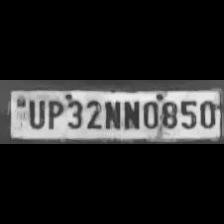0: (196, 98, 218, 128), (140, 98, 158, 128)
2: (84, 97, 102, 130)
3: (64, 97, 82, 129)
5: (178, 97, 198, 129)
8: (159, 98, 177, 130)
N: (103, 98, 120, 130), (122, 98, 139, 130)
P: (45, 97, 63, 129)
U: (25, 97, 45, 129)
